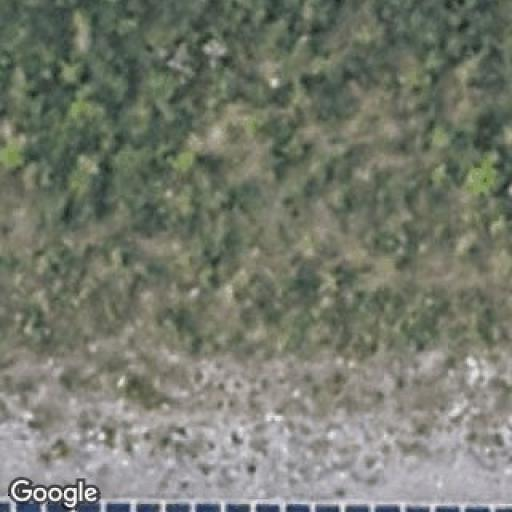solar-panel: (0, 497, 512, 512)
